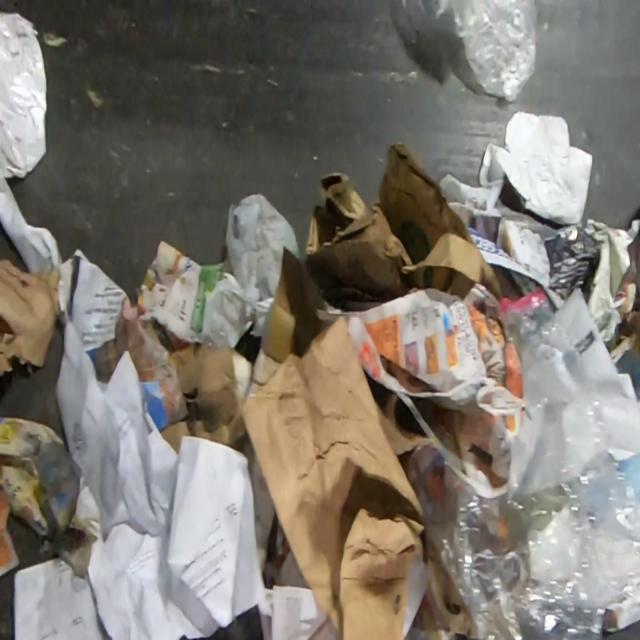cardboard: (243, 278, 439, 640), (281, 140, 515, 355), (438, 109, 595, 244), (0, 415, 105, 580), (159, 341, 254, 457), (0, 255, 64, 376), (543, 216, 606, 307)
soft_plastic: (398, 288, 640, 639), (434, 0, 538, 106), (223, 191, 300, 321), (0, 9, 49, 182)
